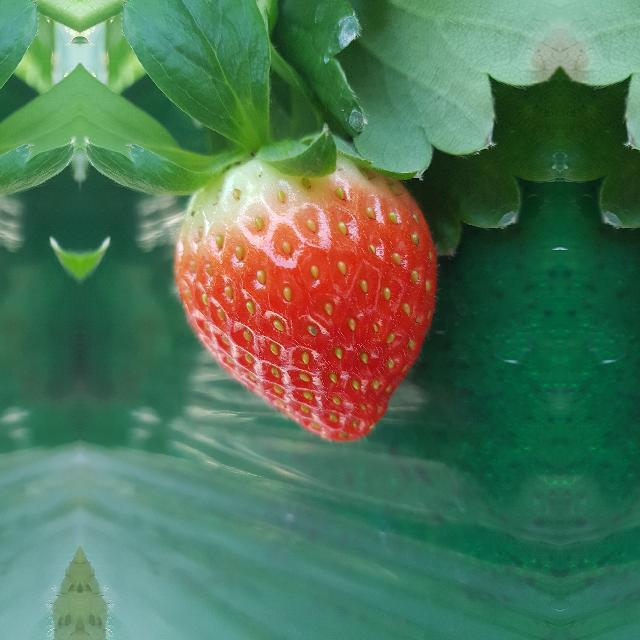Health_100: (174, 162, 438, 440)
